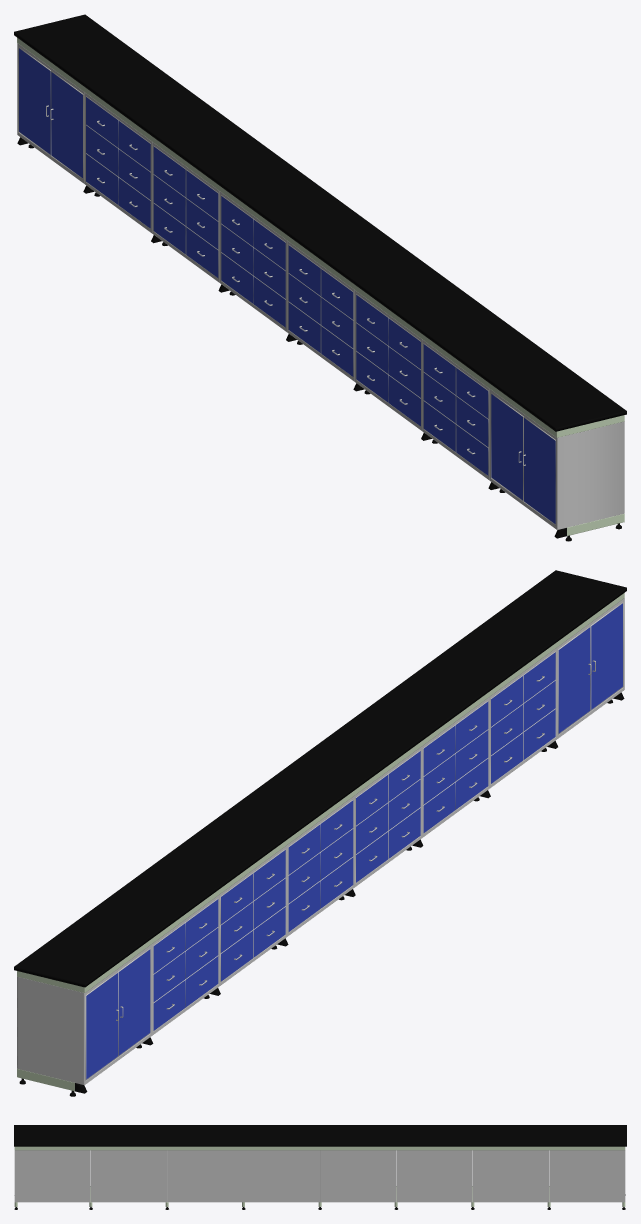
3 renders of one model, top to bottom at view 1: azimuth 30°, elevation 25°; view 2: azimuth 150°, elevation 25°; view 3: azimuth 270°, elevation 25°, orthographic. The views are drawn at different scales.
Visible parts, largest first — view 1: desktop4.001, desktop4.048, desktop4.002, desktop4.005, desktop4.050, desktop4.004, desktop4.049, desktop4.009, desktop4.046, desktop4.043, desktop4.035, desktop4.032 (+38 smaller); view 2: desktop4.001, desktop4.003, desktop4.002, desktop4.004, desktop4.049, desktop4.050, desktop4.005, desktop4.016, desktop4.012, desktop4.010, desktop4.040, desktop4.038 (+38 smaller); view 3: desktop4.001, desktop4.034, desktop4.048, desktop4.041, desktop4.027, desktop4.021, desktop4.013, desktop4.003, desktop4.006, desktop4.002.
Boxes of the visible parts, x1,y1,x2,y2 form: desktop4.001: (14, 14, 626, 431); desktop4.048: (490, 389, 624, 529); desktop4.002: (17, 37, 624, 437); desktop4.005: (50, 71, 83, 178); desktop4.050: (523, 417, 555, 524); desktop4.004: (18, 47, 50, 155); desktop4.049: (491, 393, 523, 501); desktop4.009: (86, 153, 118, 205); desktop4.046: (423, 400, 455, 452); desktop4.043: (456, 367, 488, 418); desktop4.035: (356, 294, 388, 345); desktop4.032: (321, 297, 353, 348); desktop4.001: (14, 570, 626, 987); desktop4.003: (17, 944, 151, 1084); desktop4.002: (17, 593, 624, 992); desktop4.004: (85, 972, 118, 1080); desktop4.049: (558, 626, 591, 734); desktop4.050: (591, 602, 623, 710); desktop4.005: (118, 948, 150, 1056); desktop4.016: (220, 930, 253, 981); desktop4.012: (185, 955, 218, 1007); desktop4.010: (185, 898, 218, 950); desktop4.040: (455, 758, 488, 809); desktop4.038: (455, 701, 488, 752); desktop4.001: (14, 1125, 626, 1146); desktop4.034: (167, 1150, 243, 1202); desktop4.048: (14, 1150, 90, 1202); desktop4.041: (91, 1150, 167, 1202); desktop4.027: (243, 1150, 319, 1202); desktop4.021: (320, 1150, 396, 1202); desktop4.013: (396, 1150, 472, 1202); desktop4.003: (549, 1150, 625, 1202); desktop4.006: (473, 1150, 548, 1202); desktop4.002: (14, 1146, 625, 1150).
Size of the model in its own units: 53.11 by 82.6 by 694.
